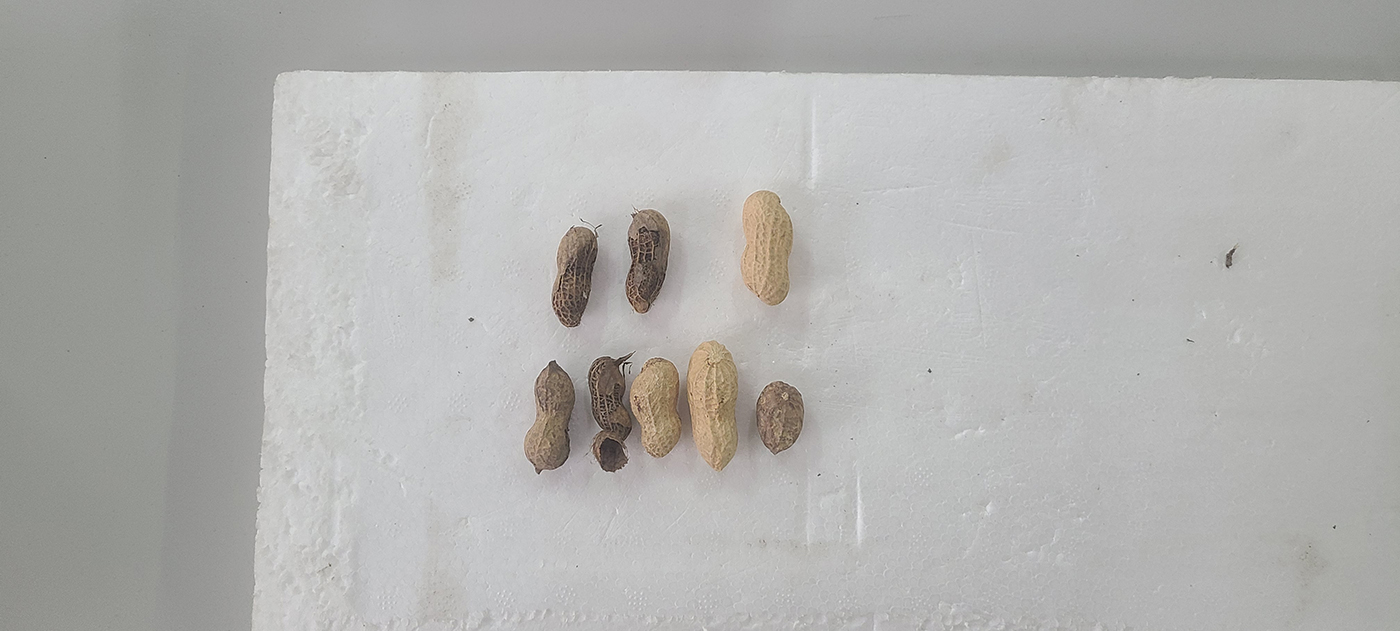h: (686, 340, 739, 469), (740, 190, 793, 306), (627, 357, 684, 457)
l: (524, 360, 575, 471), (588, 356, 631, 473), (624, 209, 671, 314), (551, 226, 596, 327), (755, 380, 805, 454)
